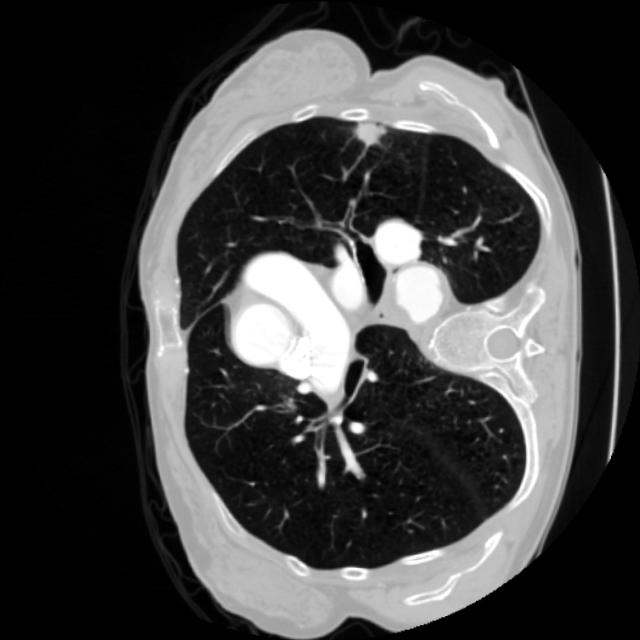nodule: (336, 102, 398, 164)
